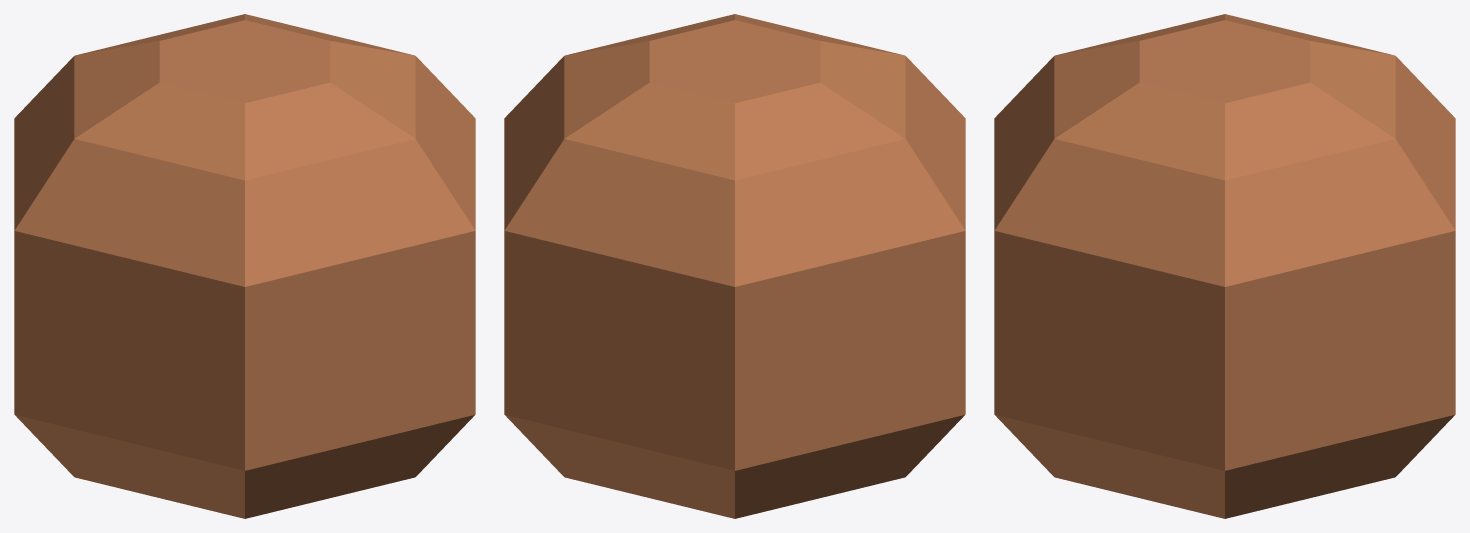
Rendered from meteorfullround.glb.
The picture shows the model from 3 angles, left to right: view 1: azimuth 30°, elevation 25°; view 2: azimuth 150°, elevation 25°; view 3: azimuth 270°, elevation 25°; orthographic projection.
Parts seen in each view (by area): view 1: meteorFullRound; view 2: meteorFullRound; view 3: meteorFullRound.
Part boxes in pixels (x1,y1,x2,y2): meteorFullRound: (14, 14, 475, 518); meteorFullRound: (504, 14, 965, 518); meteorFullRound: (994, 14, 1455, 518).
Size of the model in its own units: 11.55 by 9.8 by 10.
